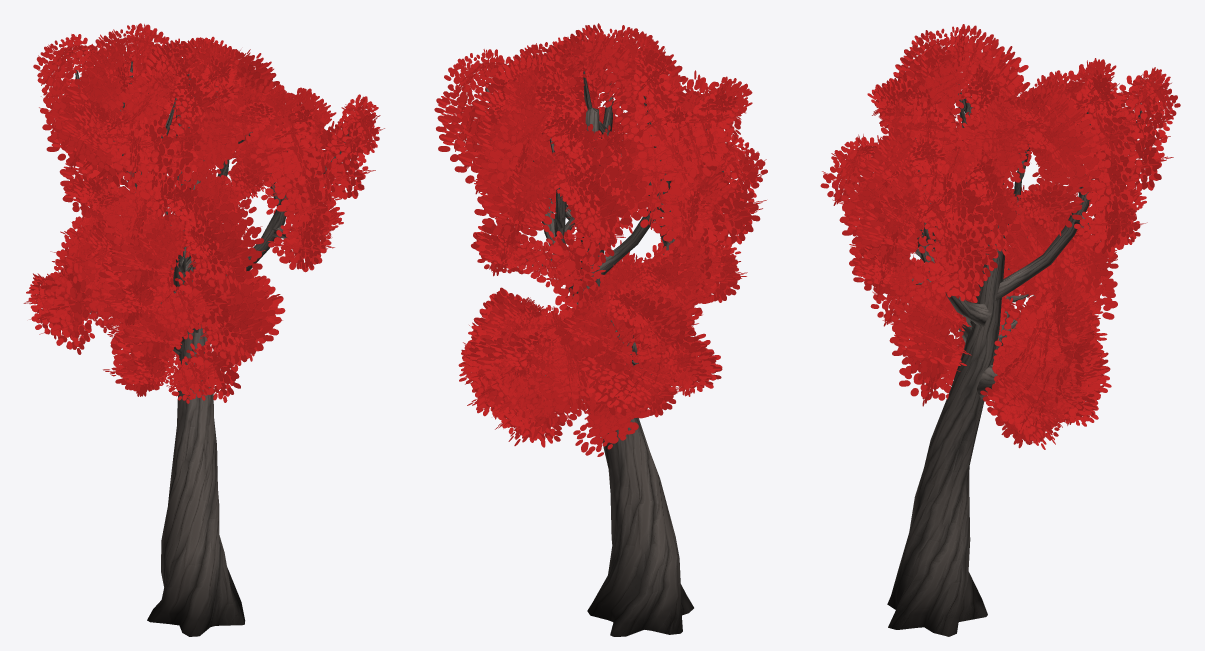
The model's file is TwistedTree_5.glb.
3 views of the same model, side by side, from view 1: azimuth 30°, elevation 25°; view 2: azimuth 150°, elevation 25°; view 3: azimuth 270°, elevation 25° (orthographic). The views are drawn at different scales.
Bounding box in the file's own units: 9.5 × 15.66 × 9.39.
2 materials, 2 textured.
